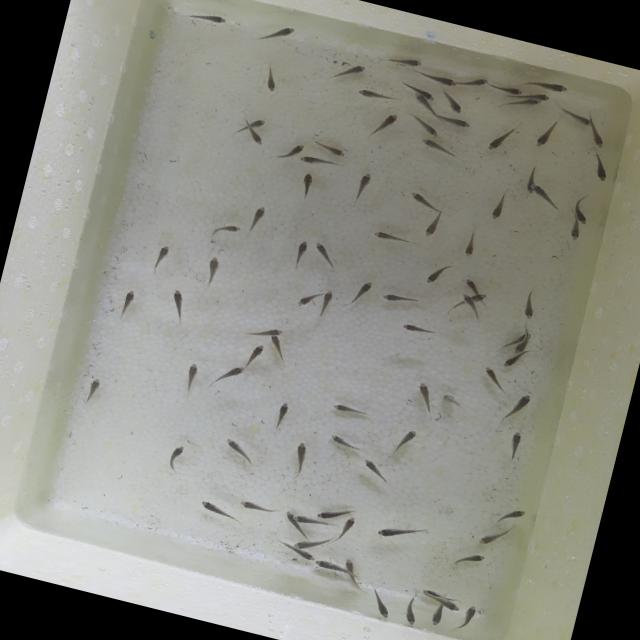fingerling: (370, 514, 432, 550), (195, 496, 248, 530), (218, 435, 266, 471), (176, 4, 232, 32), (205, 359, 246, 395), (284, 437, 315, 484), (365, 107, 401, 147), (253, 18, 298, 50), (474, 520, 516, 554), (361, 584, 396, 624), (395, 316, 445, 344), (414, 134, 464, 162), (158, 438, 192, 479), (158, 285, 192, 326), (408, 379, 440, 422), (484, 120, 520, 158), (366, 226, 418, 252), (357, 456, 399, 488), (531, 112, 563, 154), (501, 388, 535, 427), (352, 84, 403, 110), (343, 274, 376, 314), (525, 182, 565, 215), (322, 428, 369, 456), (488, 501, 530, 532), (386, 422, 422, 458), (448, 544, 491, 574), (196, 251, 227, 292), (308, 238, 344, 273), (329, 56, 371, 86), (328, 398, 378, 423), (265, 396, 296, 436), (144, 240, 176, 278), (178, 358, 205, 403), (377, 48, 423, 74), (254, 61, 286, 98), (78, 371, 109, 409), (347, 168, 378, 206), (422, 258, 456, 292), (524, 74, 570, 98), (236, 496, 280, 521), (398, 590, 424, 632), (585, 150, 614, 187), (114, 286, 140, 326), (502, 428, 528, 468), (206, 216, 243, 244), (379, 287, 422, 311), (476, 364, 510, 394), (297, 150, 341, 173), (457, 226, 485, 262), (287, 234, 312, 274), (516, 285, 542, 323), (264, 333, 292, 368), (290, 512, 336, 533), (434, 86, 467, 115), (486, 188, 511, 226), (241, 338, 268, 372), (243, 202, 270, 236), (556, 104, 594, 128), (310, 138, 350, 160), (404, 188, 440, 212), (293, 170, 319, 203), (414, 69, 458, 88), (454, 602, 479, 635), (293, 285, 322, 313), (420, 210, 445, 242), (412, 116, 444, 141), (436, 111, 474, 132), (584, 124, 610, 152), (439, 390, 472, 412), (316, 287, 336, 320), (337, 513, 358, 544), (312, 504, 342, 525), (488, 80, 524, 97), (312, 556, 344, 575), (460, 72, 489, 92), (498, 351, 524, 372), (291, 535, 321, 553), (292, 546, 317, 566), (425, 606, 445, 629), (566, 222, 585, 245), (438, 598, 464, 614), (526, 88, 552, 104), (518, 96, 542, 112), (246, 128, 266, 146), (461, 276, 481, 293), (573, 210, 592, 227), (288, 140, 308, 156), (339, 556, 358, 572), (510, 340, 528, 356), (458, 292, 476, 306), (410, 92, 428, 106), (266, 326, 286, 338), (472, 290, 488, 304), (252, 116, 268, 130), (422, 91, 436, 103)
